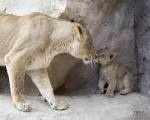lion: (1, 9, 96, 119)
